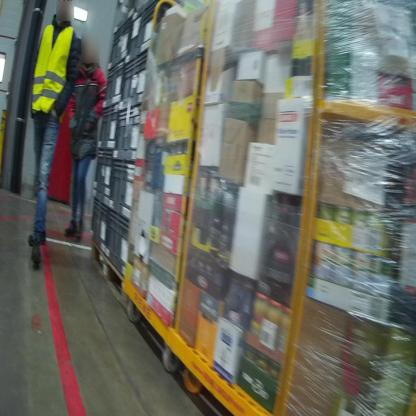pallet: (88, 223, 130, 312)
